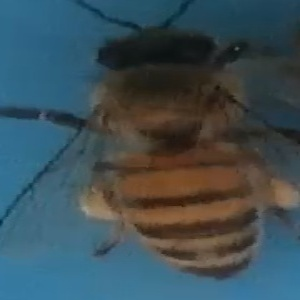bee: (15, 1, 300, 282)
